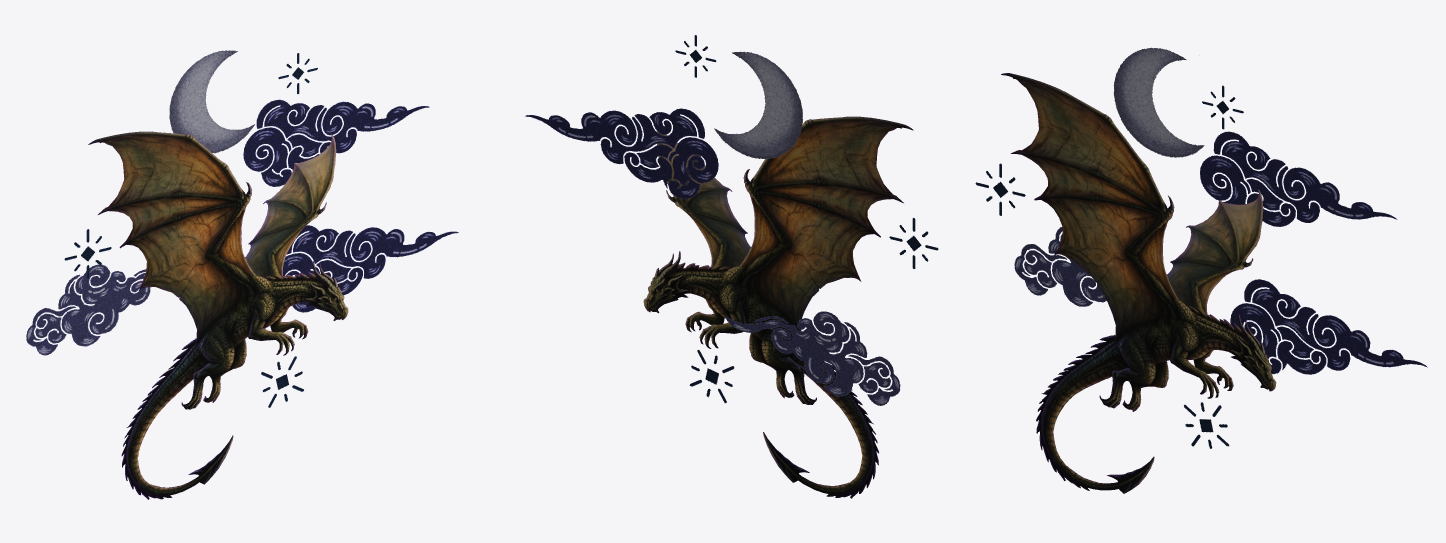
Rendered from principe.glb.
3 renders of one model, left to right at view 1: azimuth 30°, elevation 25°; view 2: azimuth 150°, elevation 25°; view 3: azimuth 330°, elevation 25°, orthographic. The views are drawn at different scales.
Visible parts, largest first — view 1: dragao, Plane.001, nuvem, Plane.004, lua; view 2: dragao, Plane.001, nuvem, lua; view 3: dragao, Plane.004, Plane.001, lua, nuvem.
Boxes of the visible parts, x1,y1,x2,y2 form: dragao: (88, 131, 348, 499); Plane.001: (243, 99, 429, 186); nuvem: (26, 264, 150, 355); Plane.004: (283, 225, 458, 312); lua: (169, 50, 254, 153); dragao: (643, 116, 913, 498); Plane.001: (525, 108, 718, 198); nuvem: (725, 311, 900, 405); lua: (714, 51, 802, 158); dragao: (1001, 73, 1276, 493); Plane.004: (1230, 279, 1427, 374); Plane.001: (1200, 131, 1397, 226); lua: (1113, 47, 1204, 157); nuvem: (1014, 227, 1106, 306).
Bounding box in the file's own units: 2.25 × 2.4 × 0.3423.
Materials: 1 (1 with a texture image).
